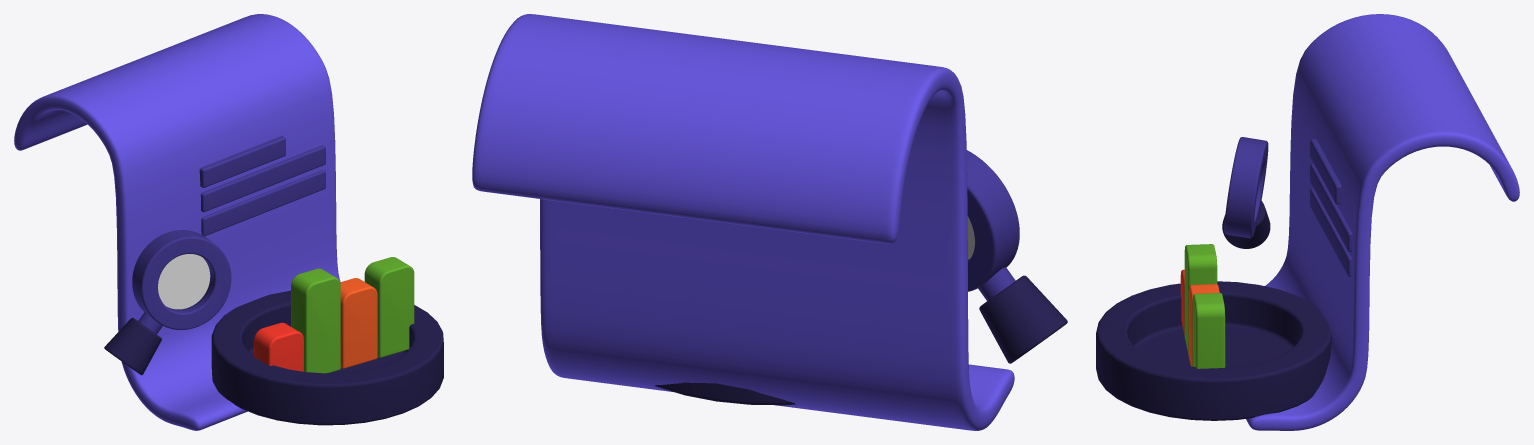
Rendered from Financial Analytics.fbx.
The picture shows the model from 3 angles, left to right: view 1: azimuth 30°, elevation 25°; view 2: azimuth 150°, elevation 25°; view 3: azimuth 270°, elevation 25°; orthographic projection. The views are drawn at different scales.
Parts seen in each view (by area): view 1: Cylinder.024, Cylinder.023, Cube.024, Cylinder.025, Cube.023, Cylinder.026; view 2: Cylinder.024, Cylinder.025, Cylinder.026, Cylinder.023, Cylinder.027; view 3: Cylinder.024, Cylinder.023, Cube.024, Cylinder.025, Cube.023, Cylinder.026.
Boxes of the visible parts, <box> form: Cylinder.024: <box>14,14,340,430</box>; Cylinder.023: <box>211,290,443,425</box>; Cube.024: <box>254,257,414,373</box>; Cylinder.025: <box>132,230,231,329</box>; Cube.023: <box>199,136,325,236</box>; Cylinder.026: <box>104,317,161,375</box>; Cylinder.024: <box>472,14,1014,430</box>; Cylinder.025: <box>966,150,1019,291</box>; Cylinder.026: <box>979,275,1067,363</box>; Cylinder.023: <box>655,382,795,405</box>; Cylinder.027: <box>978,267,1015,301</box>; Cylinder.024: <box>1246,14,1519,430</box>; Cylinder.023: <box>1096,281,1331,420</box>; Cube.024: <box>1180,244,1225,368</box>; Cylinder.025: <box>1224,137,1268,238</box>; Cube.023: <box>1310,138,1352,276</box>; Cylinder.026: <box>1222,201,1270,248</box>.
Size of the model in its own units: 345 by 303 by 409.
